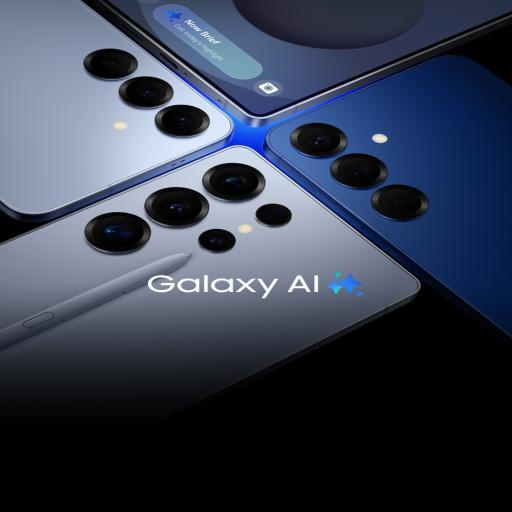phone: (254, 48, 511, 335)
